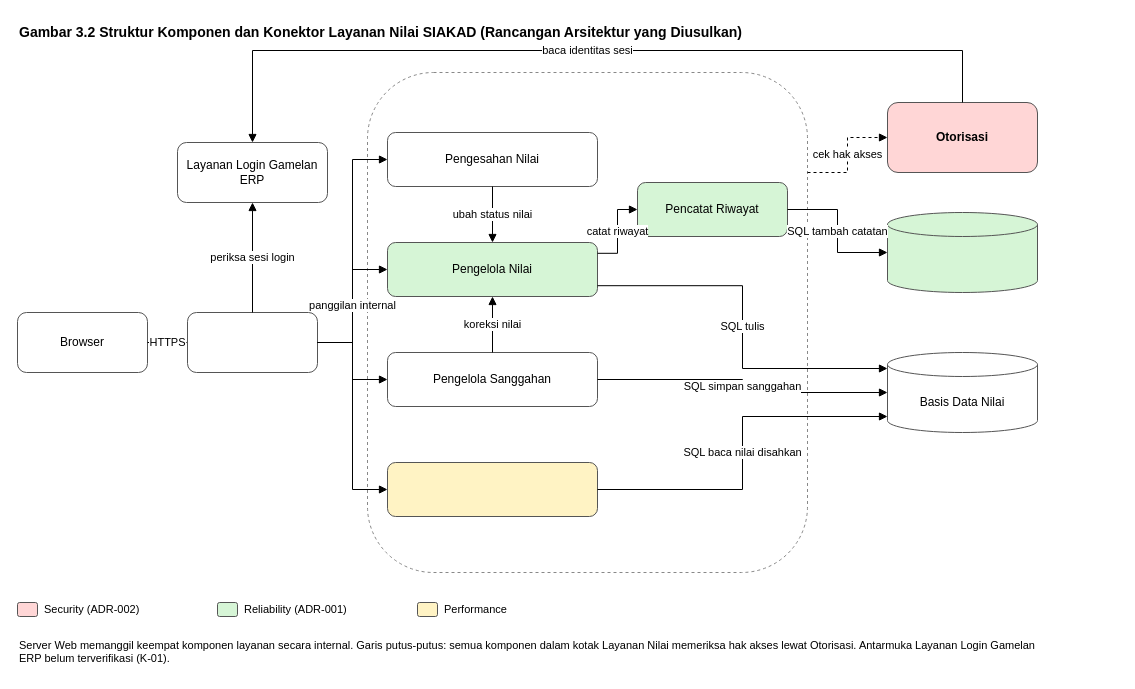
The diagram is 1135 pixels wide and 689 high, and some of its shapes have lost their labels. Each missing label, with the box of its shape:
Basis Data Riwayat: (886, 212, 1038, 292)
Layanan Nilai: (366, 72, 808, 572)
Penyaji KHS dan Transkrip: (386, 462, 598, 516)
Server Web: (186, 312, 318, 372)
